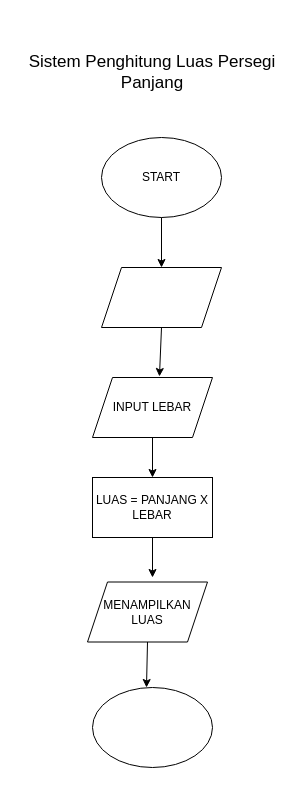
Some shapes in this 304 by 785 pixel diagram are drawn without their labels. The centre of each missing label's shape, as x and y in pixels:
"END" belongs at pixel 152 727.
"INPUT PANJANG" belongs at pixel 161 297.
